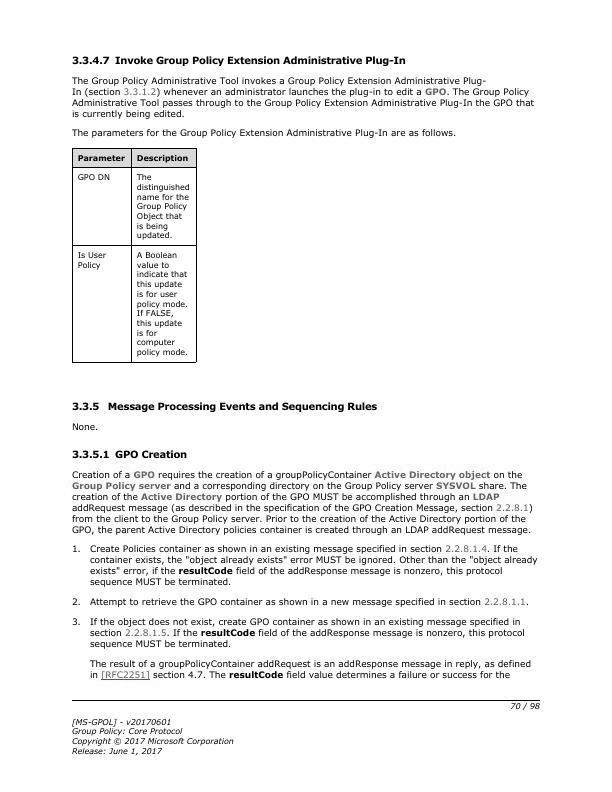table: (72, 148, 199, 363)
text: (70, 468, 533, 536), (68, 74, 539, 121), (70, 542, 538, 589), (70, 615, 527, 651), (87, 656, 533, 683), (69, 715, 235, 757), (70, 595, 531, 608), (70, 51, 411, 68), (69, 127, 460, 141), (68, 398, 379, 414), (68, 446, 188, 462), (69, 421, 101, 433)
